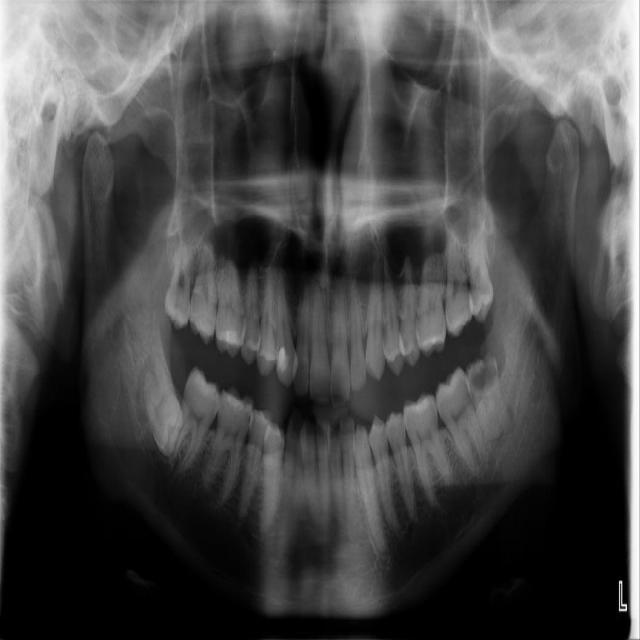3M ESPE Implant: (163, 240, 195, 331)
52: (210, 306, 250, 362), (275, 340, 298, 390), (471, 355, 497, 390)
73: (616, 594, 622, 602)
BioHorizons Implant: (445, 233, 473, 340)
BioLife Implant: (464, 222, 495, 326)
Biomet 3i Implant: (459, 349, 516, 444)
Blue Sky Bio Implant: (428, 365, 491, 479)
Caries: (187, 242, 219, 345)
Implant: (164, 363, 228, 479)
Keystone Dental Implant: (136, 352, 190, 460)
